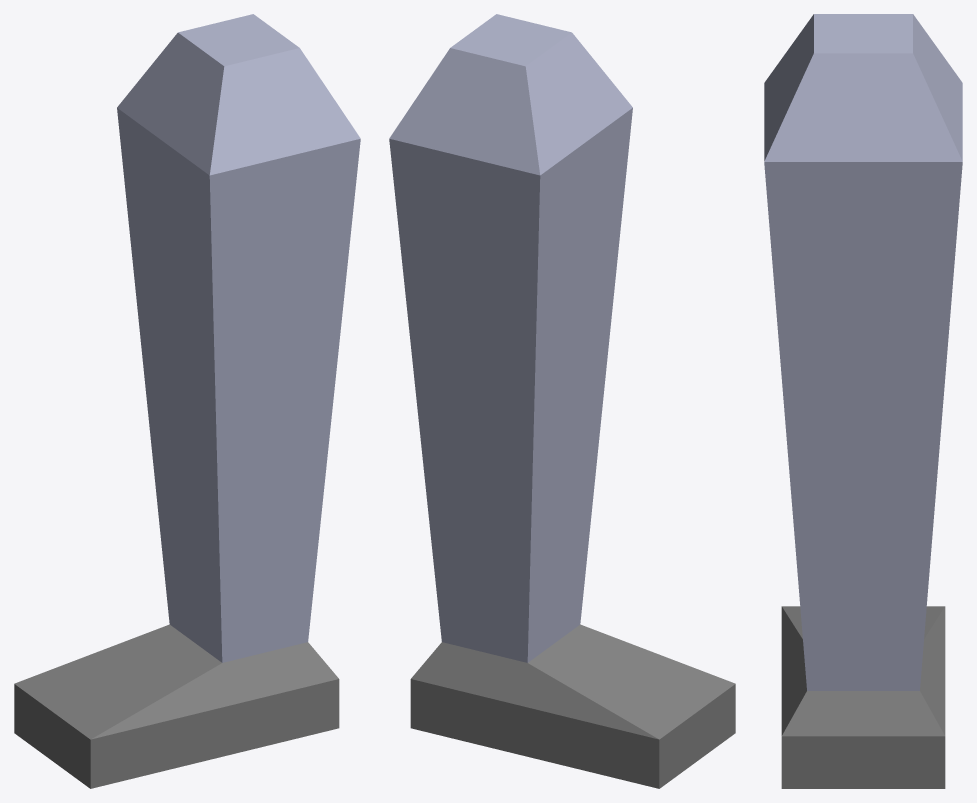
Rendered from Bandit2LowerLeg.fbx.
3 renders of one model, left to right at view 1: azimuth 30°, elevation 25°; view 2: azimuth 150°, elevation 25°; view 3: azimuth 270°, elevation 25°, orthographic. The views are drawn at different scales.
Parts seen in each view (by area): view 1: Bandit2LowerLeg; view 2: Bandit2LowerLeg; view 3: Bandit2LowerLeg.
Boxes of the visible parts, x1=… form: Bandit2LowerLeg: x1=14, y1=14, x2=360, y2=788; Bandit2LowerLeg: x1=389, y1=14, x2=735, y2=788; Bandit2LowerLeg: x1=764, y1=14, x2=962, y2=788.
Size of the model in its own units: 0.272 by 0.6698 by 0.1668.
